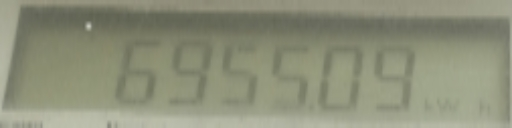0: (323, 39, 364, 114)
4: (172, 34, 213, 109)
5: (220, 34, 261, 109), (269, 36, 310, 111)
6: (116, 31, 157, 106)
9: (373, 39, 414, 114)
d: (305, 101, 317, 112)
